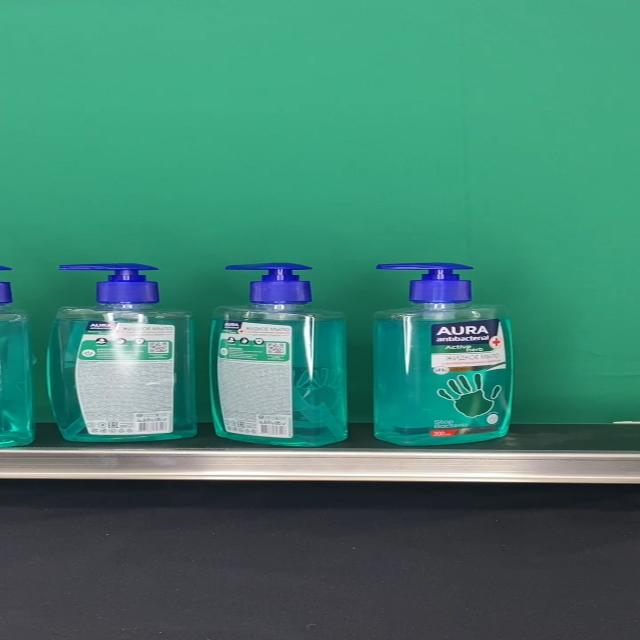Bottle: (46, 264, 196, 442), (373, 262, 514, 446), (209, 263, 347, 447)
Cap: (57, 264, 158, 306), (377, 262, 475, 304), (225, 262, 314, 304)
